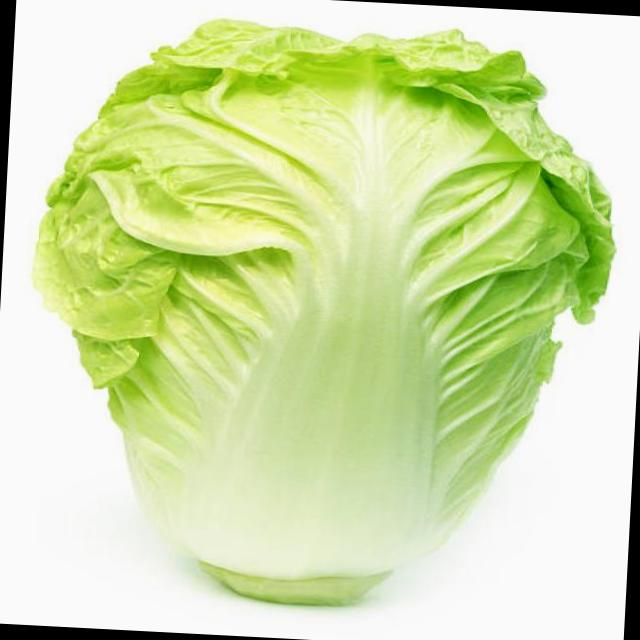Lettuce-Ready-to-Harvest: (35, 21, 612, 603)
